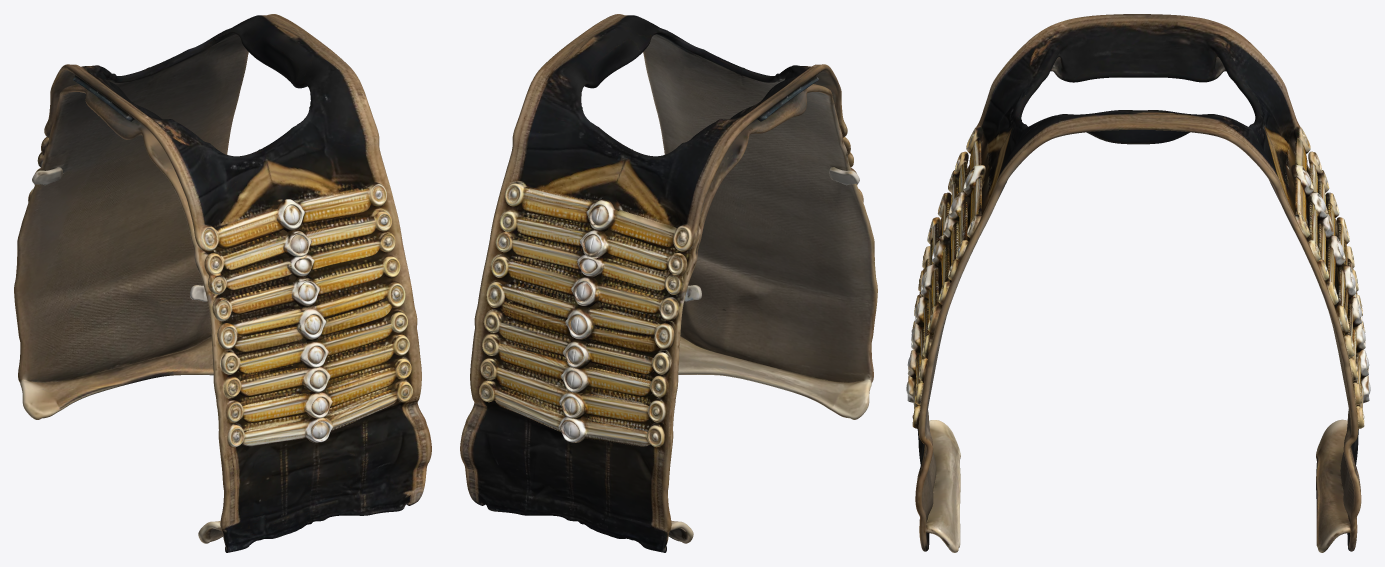
File: 014-chernyy-zhenskiy-nagrudnik-s-serebryanoy.glb
3 views of the same model, side by side, from view 1: azimuth 30°, elevation 25°; view 2: azimuth 150°, elevation 25°; view 3: azimuth 270°, elevation 25° (orthographic). The views are drawn at different scales.
Visible parts, largest first — view 1: node_0; view 2: node_0; view 3: node_0.
Boxes of the visible parts, x1=… form: node_0: x1=14, y1=14, x2=431, y2=552; node_0: x1=460, y1=14, x2=877, y2=552; node_0: x1=906, y1=14, x2=1370, y2=552.
Size of the model in its own units: 0.5028 by 0.8366 by 0.8133.
Materials: 1 (1 with a texture image).
